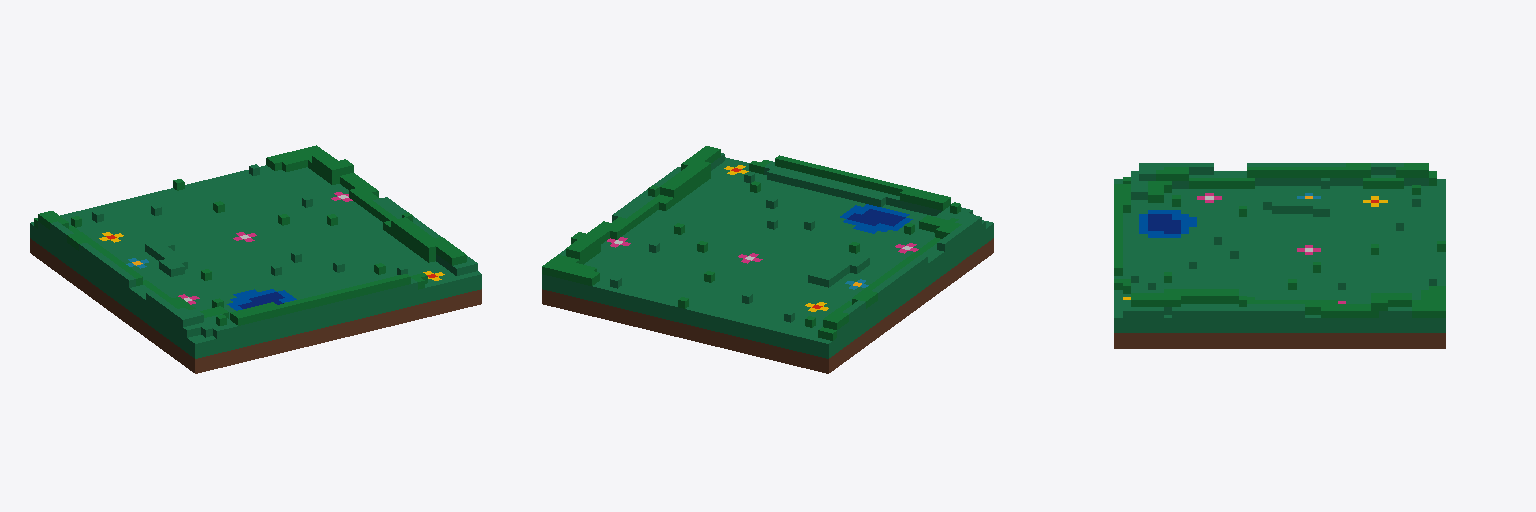
3 renders of one model, left to right at view 1: azimuth 30°, elevation 25°; view 2: azimuth 150°, elevation 25°; view 3: azimuth 270°, elevation 25°, orthographic.
Parts seen in each view (by area): view 1: object 1; view 2: object 1; view 3: object 1.
Part boxes in pixels (x1,y1,x2,y2): object 1: (30, 145, 481, 373); object 1: (542, 146, 993, 373); object 1: (1114, 163, 1445, 348).
Bounding box in the file's own units: 4 × 0.6 × 4.
1 materials, 1 textured.